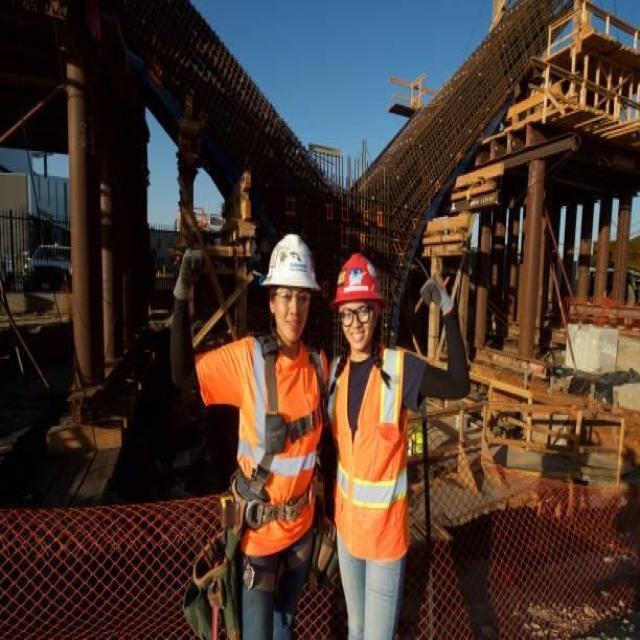Arnes_seguridad: (238, 336, 317, 597)
